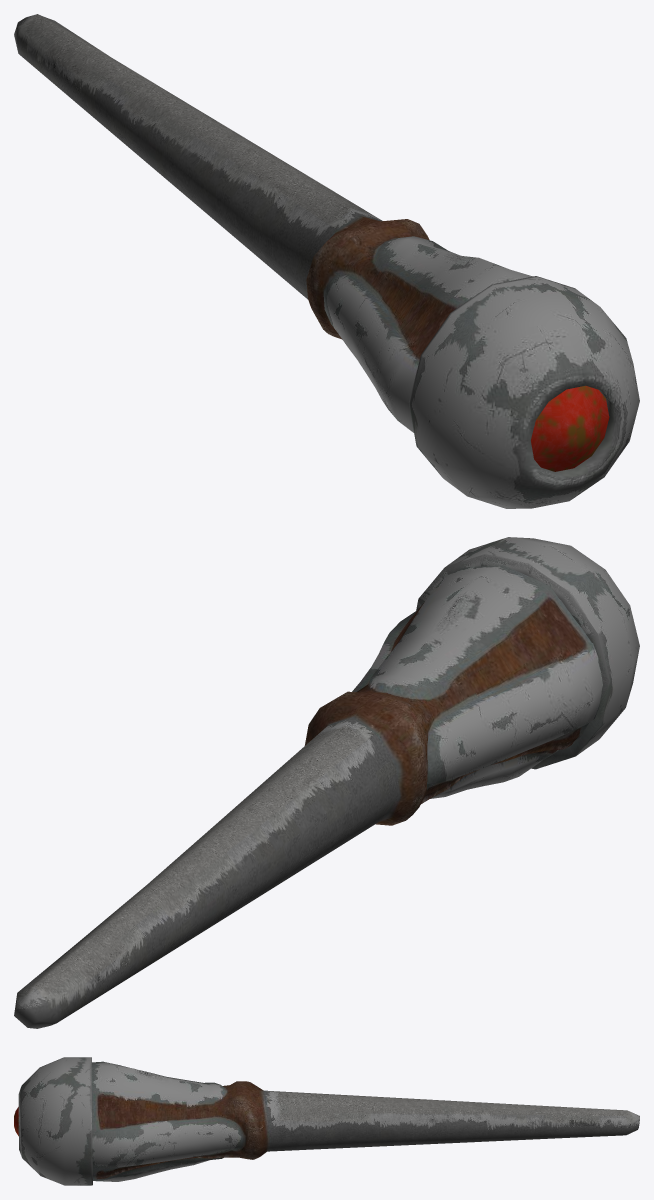
The model's file is monster cherv.fbx.
The picture shows the model from 3 angles, top to bottom: view 1: azimuth 30°, elevation 25°; view 2: azimuth 150°, elevation 25°; view 3: azimuth 270°, elevation 25°; orthographic projection. The views are drawn at different scales.
Parts seen in each view (by area): view 1: body_body_0, eye_eye_0; view 2: body_body_0; view 3: body_body_0.
Boxes of the visible parts, bbox=[...] form: body_body_0: bbox=[14, 14, 639, 508]; eye_eye_0: bbox=[531, 385, 609, 471]; body_body_0: bbox=[14, 537, 639, 1028]; body_body_0: bbox=[18, 1057, 639, 1185].
Size of the model in its own units: 124 by 117 by 570.
